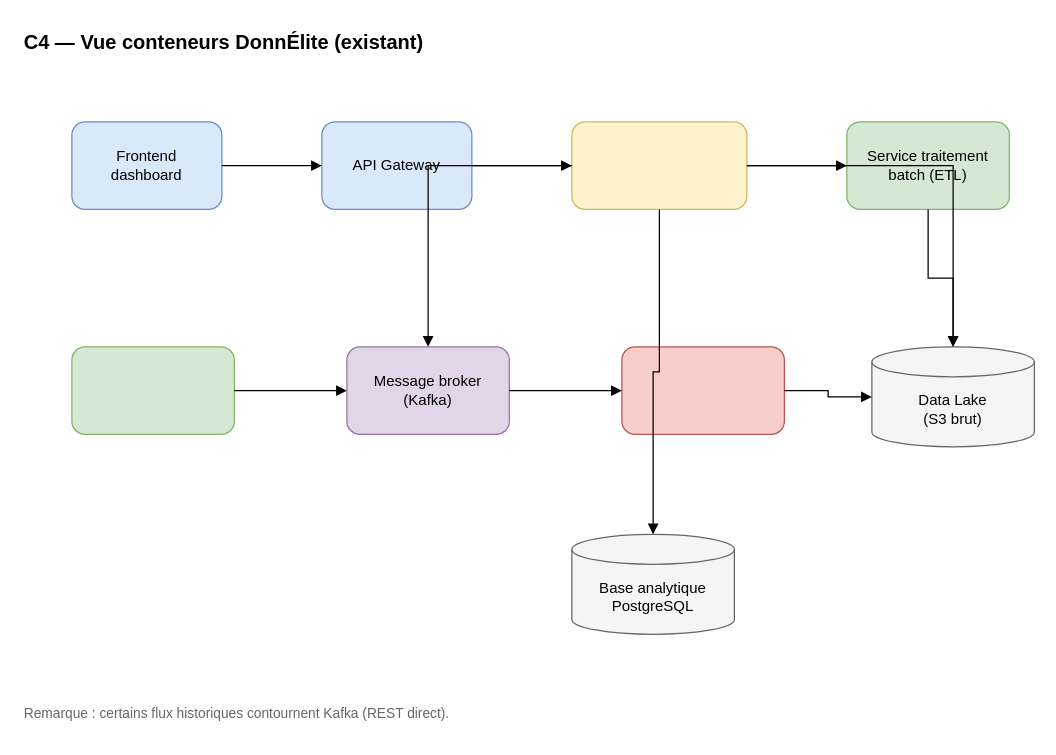
Image size: 1056x755. Some labels were removed from this diagram. The shapes that lost their labels are listed below. From the top down, each one's box as (x1, y1, x2, y2) in pixels, then its label:
(571, 121, 747, 209): Backend applicatif (API métier)
(71, 346, 234, 434): Service ingestion temps réel
(621, 346, 784, 434): Service scoring (modèles IA)
